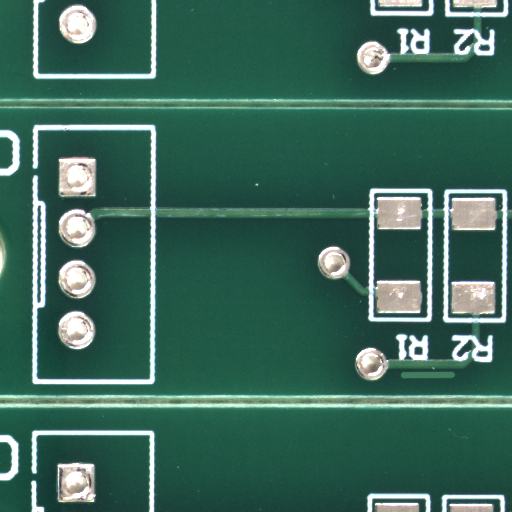Spurious_copper: (427, 374, 486, 385)
